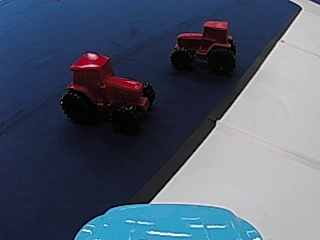tractor: (62, 51, 158, 131), (169, 19, 238, 73)
